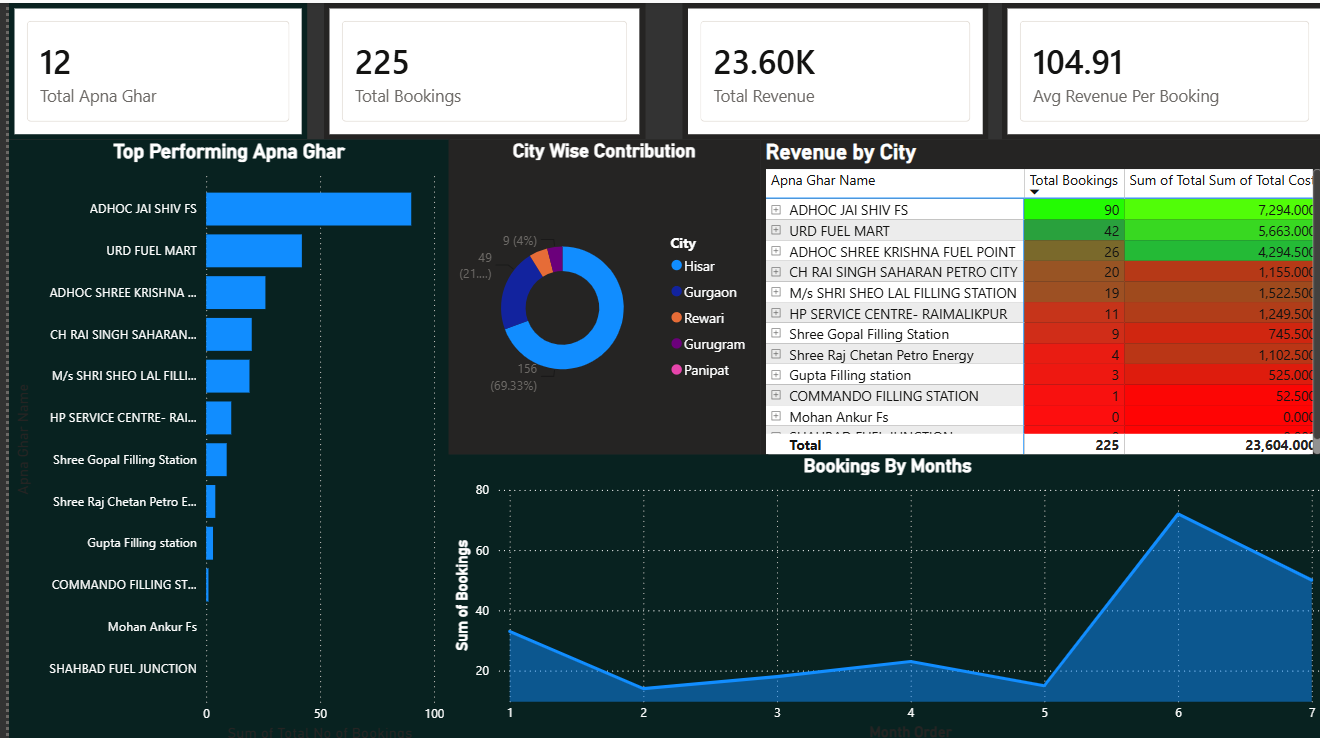

The dashboard page shown, as its layout file describes it:
{"tool":"powerbi","page":{"name":"Page 1","canvas":[1280,720],"ordinal":0},"visuals":[{"type":"cardVisual","fields":{"Data":["Count(Haryana.Apna Ghar Name)"]},"box":[0,0,289.1,132.3],"z":0},{"type":"cardVisual","fields":{"Data":["Haryana.Total Bookings"]},"box":[306.1,0,311.8,132.3],"z":1000},{"type":"cardVisual","fields":{"Data":["Haryana.Total Revenue"]},"box":[653.9,0,296.7,132.3],"z":2000},{"type":"barChart","title":"Top Performing Apna Ghar","fields":{"Category":["Haryana.Apna Ghar Name"],"Y":["Sum(Haryana.Total No of Bookings)"]},"box":[0,132.3,427.1,587.7],"z":3000},{"type":"donutChart","title":"City Wise Contribution","fields":{"Category":["Haryana.City"],"Y":["Sum(Haryana.Total No of Bookings)"]},"box":[427.1,132.3,302.4,306.1],"z":4000},{"type":"cardVisual","title":"T","fields":{"Data":["Haryana.Avg Revenue Per Booking"]},"box":[963.8,0,315.6,132.3],"z":5000},{"type":"pivotTable","title":"Revenue by City","fields":{"Rows":["Haryana.Apna Ghar Name","Haryana.City"],"Values":["Haryana.Total Bookings","Sum(Haryana.Total Sum of Total Cost)"]},"box":[729.5,132.3,549.9,319.4],"z":6000},{"type":"lineChart","title":"Bookings By Months","fields":{"Y":["Sum(Monthbooking.Bookings)"],"Category":["Monthbooking.Month Order"]},"box":[427.1,438.4,852.3,281.6],"z":7000}]}

Visuals, with their boxes in screenshot pixels (x1, y1, x2, y2), scaled from the page's 1280x720 canvas onto the 1320x738 screenshot:
cardVisual - Count(Haryana.Apna Ghar Name): (0, 0, 298, 136)
cardVisual - Haryana.Total Bookings: (316, 0, 637, 136)
cardVisual - Haryana.Total Revenue: (674, 0, 980, 136)
"Top Performing Apna Ghar" barChart: (0, 136, 440, 737)
"City Wise Contribution" donutChart: (440, 136, 752, 449)
"T" cardVisual: (994, 0, 1319, 136)
"Revenue by City" pivotTable: (752, 136, 1319, 463)
"Bookings By Months" lineChart: (440, 449, 1319, 737)
